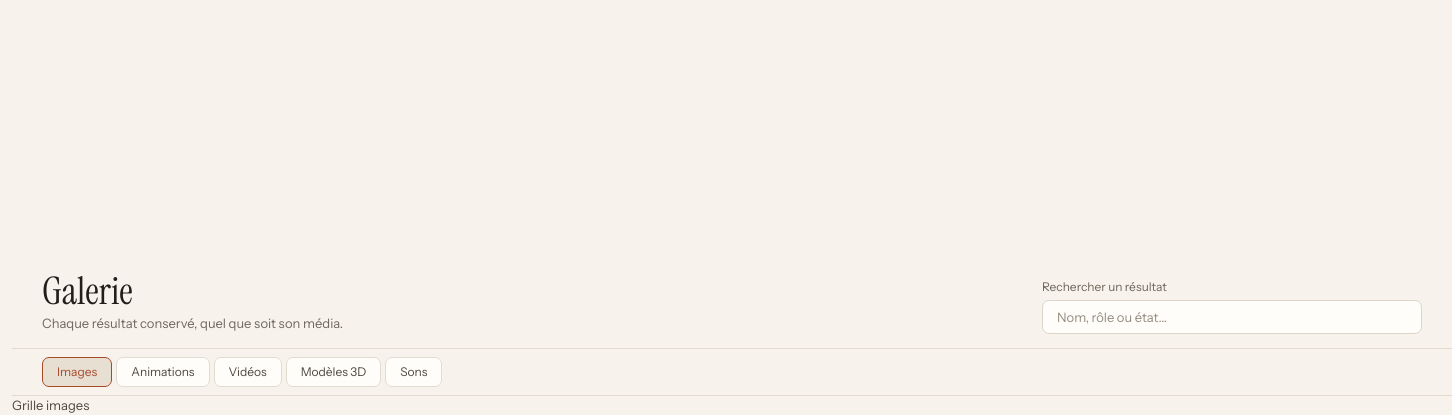
Test: une source 3D sans frame ne reçoit pas de fausse vignette
(page scrolled)
Click the button "Modèles 3D".
click(333, 372)  # box [286,356,381,386]
(page scrolled)
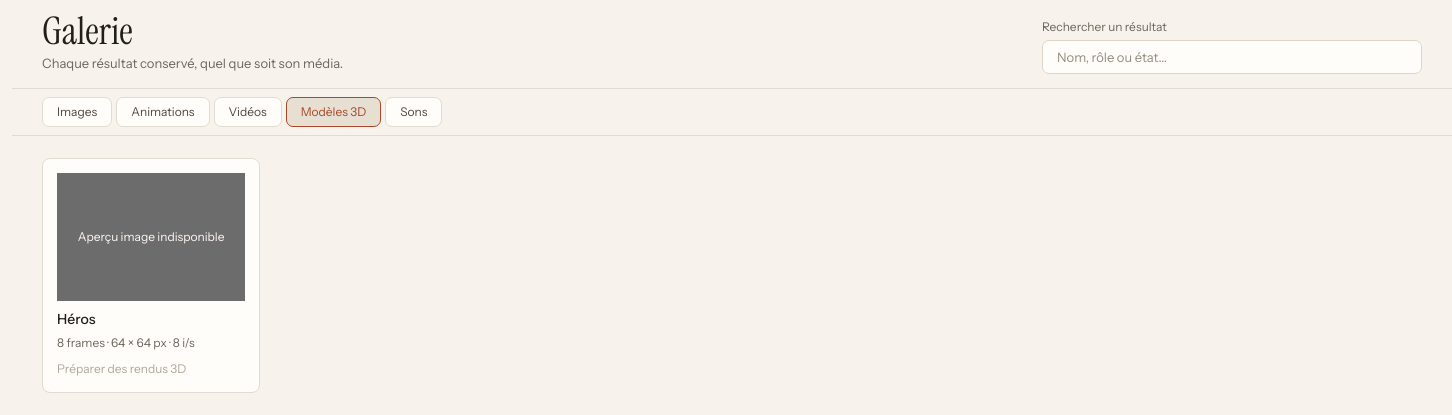
Now the text "Aperçu image indisponible" is shown, box [78,228,224,246]
Now the button "Préparer des rendus 3D" is disabled, box [57,360,186,378]
